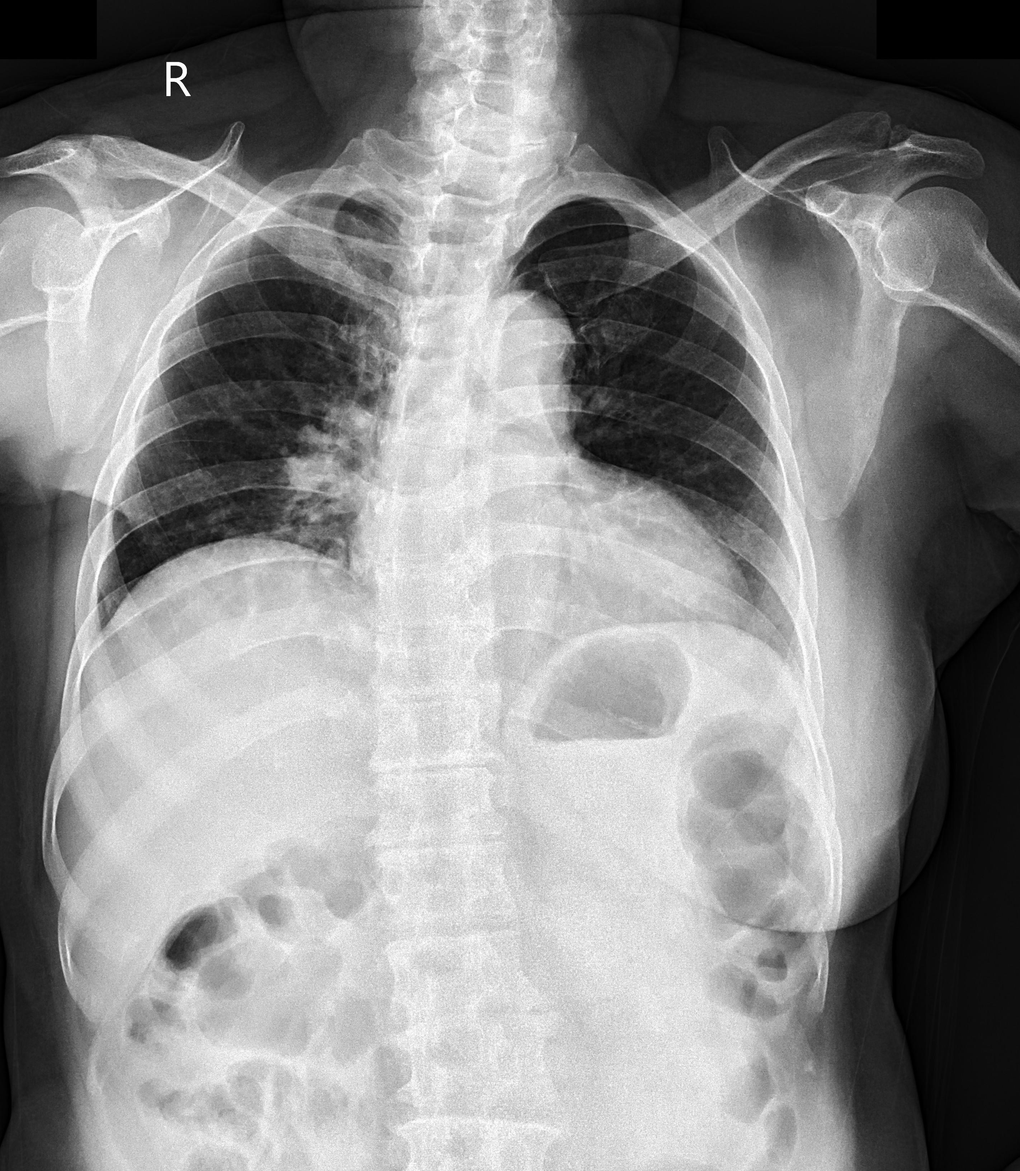Aortic enlargement: (466, 288, 572, 425)
Cardiomegaly: (344, 507, 752, 617)
